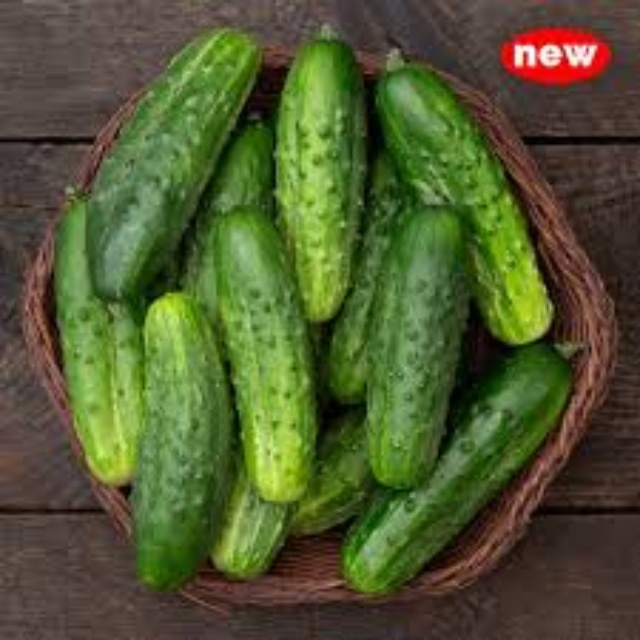dua_leo: (92, 24, 262, 301), (211, 201, 323, 507), (361, 204, 475, 489), (132, 289, 233, 599), (271, 29, 367, 327)
